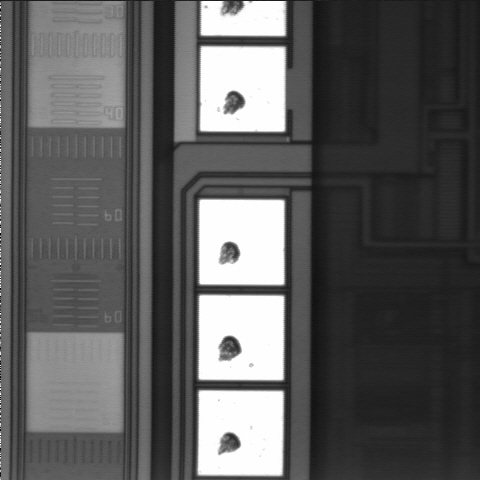pad: (200, 47, 285, 132), (199, 200, 284, 285), (199, 295, 284, 380), (198, 391, 283, 476)
